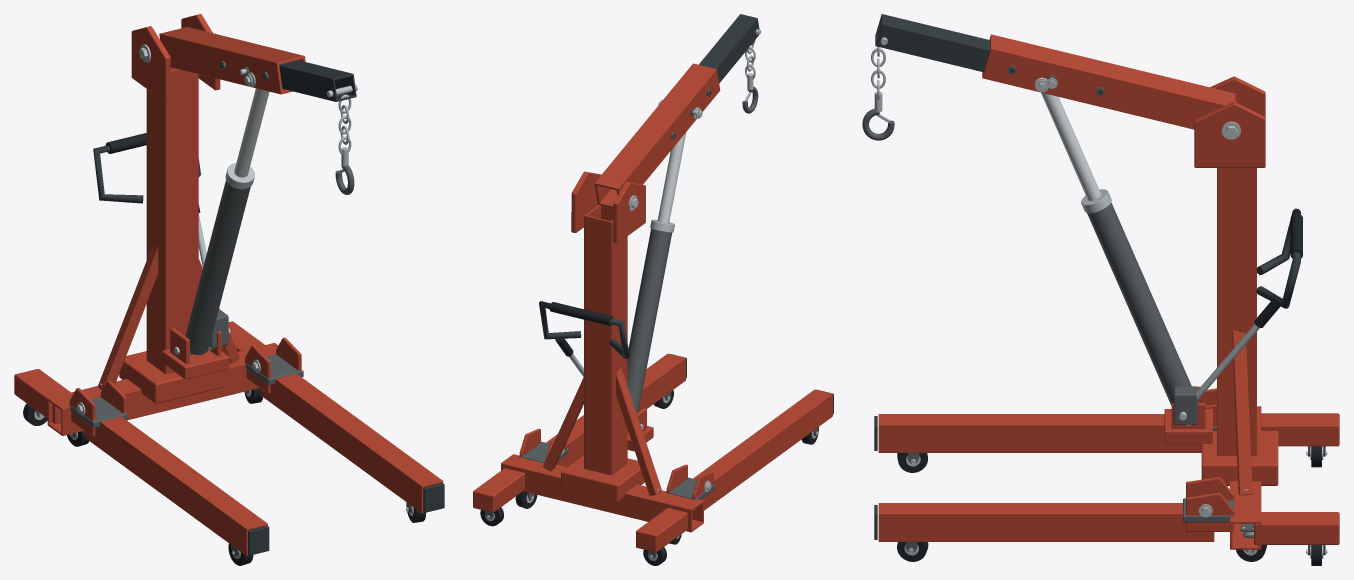
File: city-folding-engine-crane.glb
The picture shows the model from 3 angles, left to right: view 1: azimuth 30°, elevation 25°; view 2: azimuth 150°, elevation 25°; view 3: azimuth 270°, elevation 25°; orthographic projection. The views are drawn at different scales.
Parts seen in each view (by area): view 1: Assembly | Workshop vermilion powder coat, Assembly | Dark cast iron, Assembly | Graphite frame enamel, Assembly | Satin zinc plated steel, Assembly | Black moulded rubber, Assembly | Polished hydraulic rod; view 2: Assembly | Workshop vermilion powder coat, Assembly | Dark cast iron, Assembly | Graphite frame enamel, Assembly | Black moulded rubber, Assembly | Satin zinc plated steel, Assembly | Polished hydraulic rod; view 3: Assembly | Workshop vermilion powder coat, Assembly | Dark cast iron, Assembly | Graphite frame enamel, Assembly | Satin zinc plated steel, Assembly | Black moulded rubber, Assembly | Polished hydraulic rod.
Part boxes in pixels (bbox=[...]): Assembly | Workshop vermilion powder coat: bbox=[14, 14, 443, 555]; Assembly | Dark cast iron: bbox=[35, 61, 424, 555]; Assembly | Graphite frame enamel: bbox=[93, 60, 444, 555]; Assembly | Satin zinc plated steel: bbox=[34, 44, 413, 558]; Assembly | Black moulded rubber: bbox=[23, 133, 425, 565]; Assembly | Polished hydraulic rod: bbox=[234, 88, 269, 177]; Assembly | Workshop vermilion powder coat: bbox=[473, 63, 832, 552]; Assembly | Dark cast iron: bbox=[485, 86, 818, 558]; Assembly | Graphite frame enamel: bbox=[539, 14, 833, 413]; Assembly | Black moulded rubber: bbox=[480, 302, 818, 565]; Assembly | Satin zinc plated steel: bbox=[485, 29, 818, 560]; Assembly | Polished hydraulic rod: bbox=[657, 132, 686, 223]; Assembly | Workshop vermilion powder coat: bbox=[878, 34, 1339, 549]; Assembly | Dark cast iron: bbox=[862, 65, 1325, 555]; Assembly | Graphite frame enamel: bbox=[874, 14, 1300, 539]; Assembly | Satin zinc plated steel: bbox=[871, 37, 1327, 558]; Assembly | Black moulded rubber: bbox=[897, 213, 1321, 565]; Assembly | Polished hydraulic rod: bbox=[1041, 92, 1101, 200].
Size of the model in its own units: 0.96 by 1.92 by 1.68.
